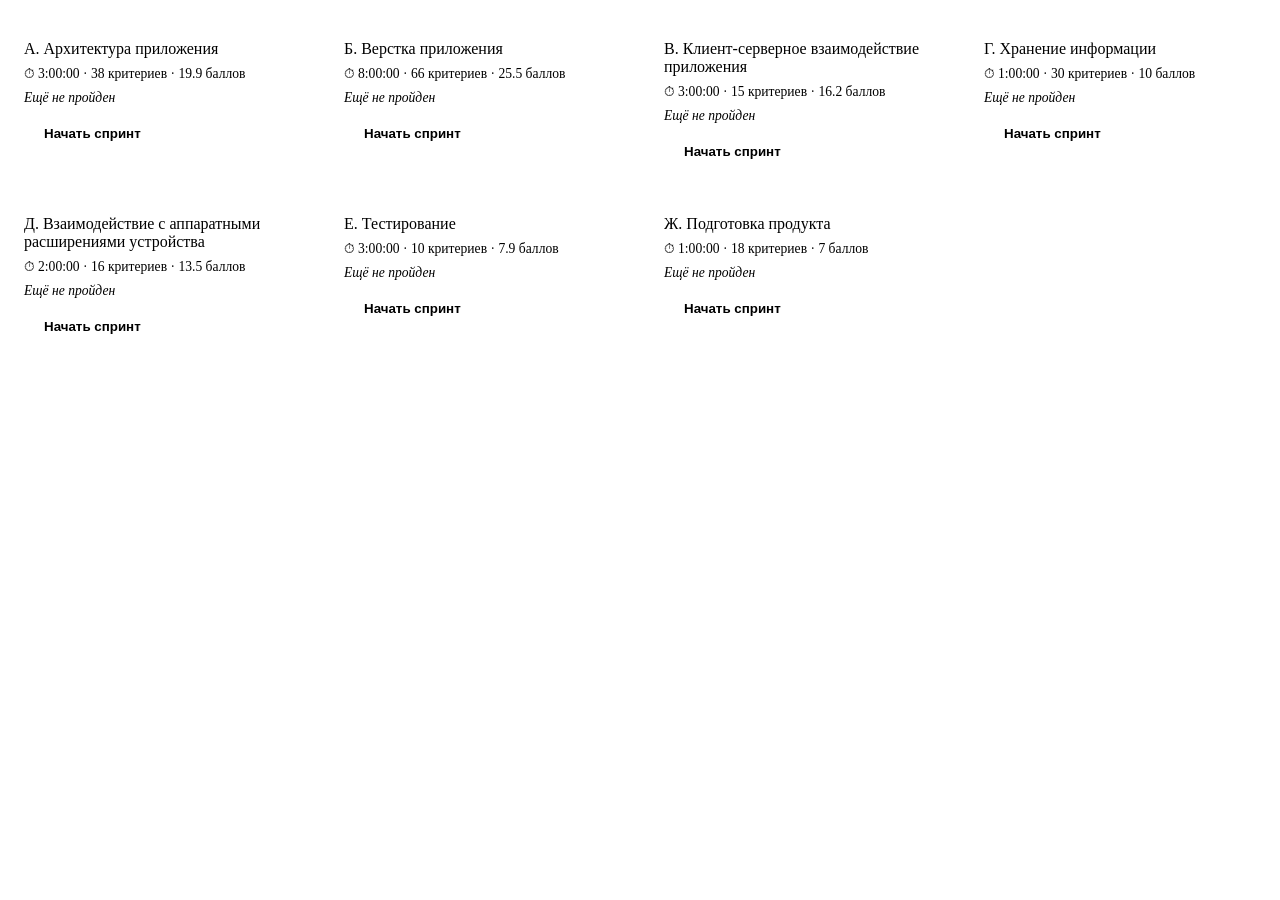
starting a module opens the sprint screen at its official time limit
Click the button "Начать спринт" below "18". click: (732, 308)
box: [664,293,801,324]
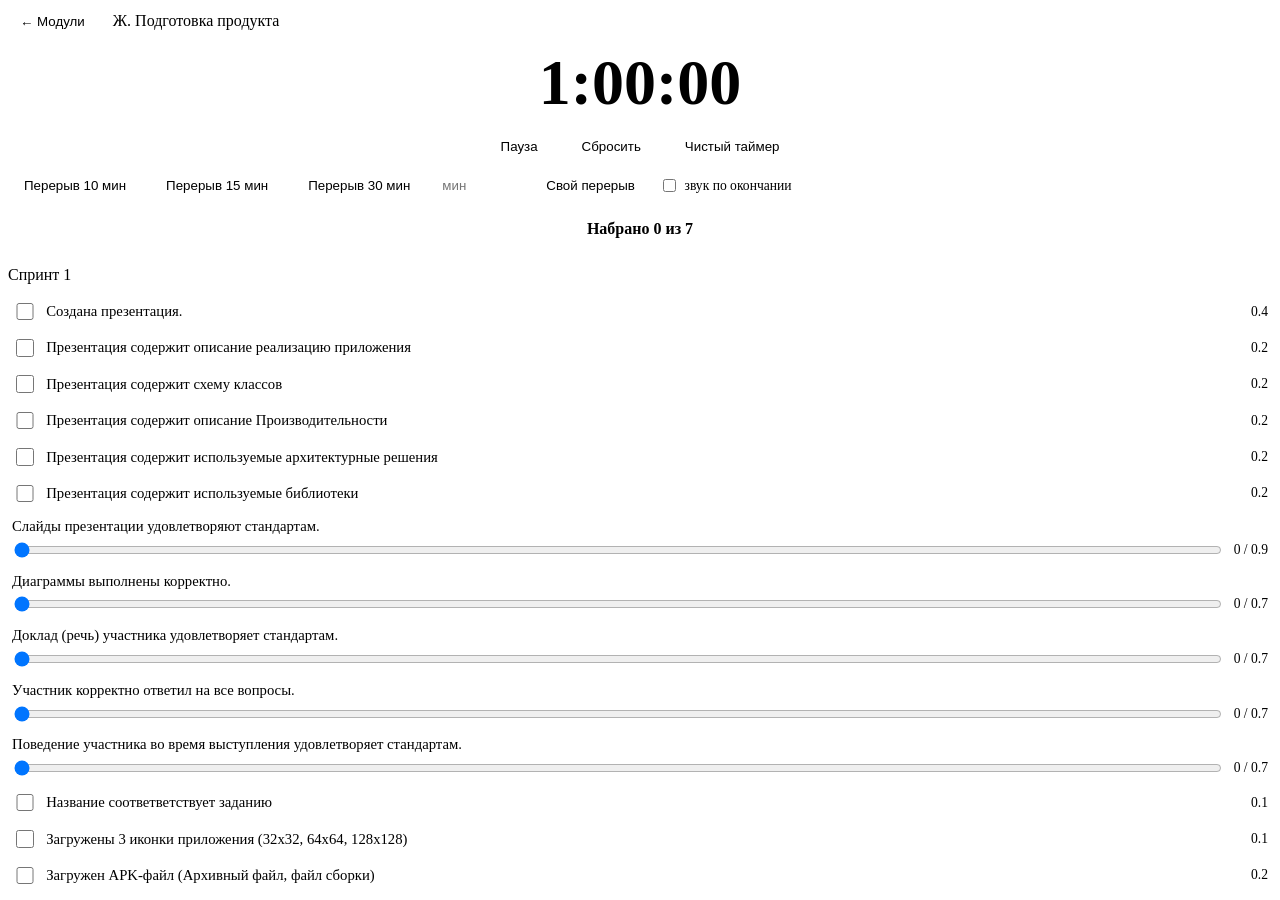
Expected: the text "1:00:00" is shown, [539,46,741,120]
Expected: the text "Набрано 0 из 7" is shown, [587,220,693,237]
